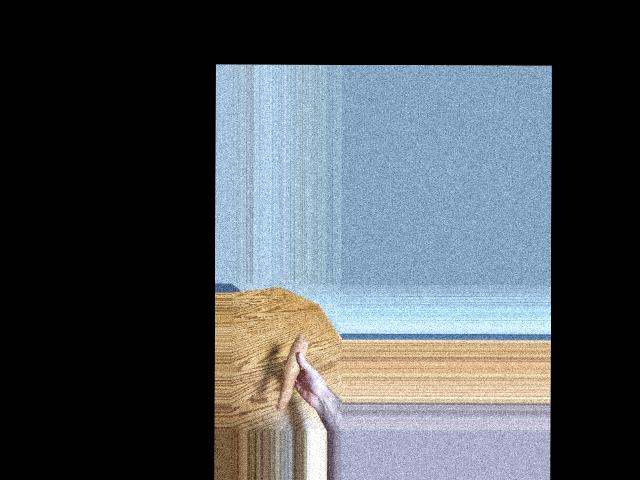sweet_potato: (282, 336, 304, 415)
